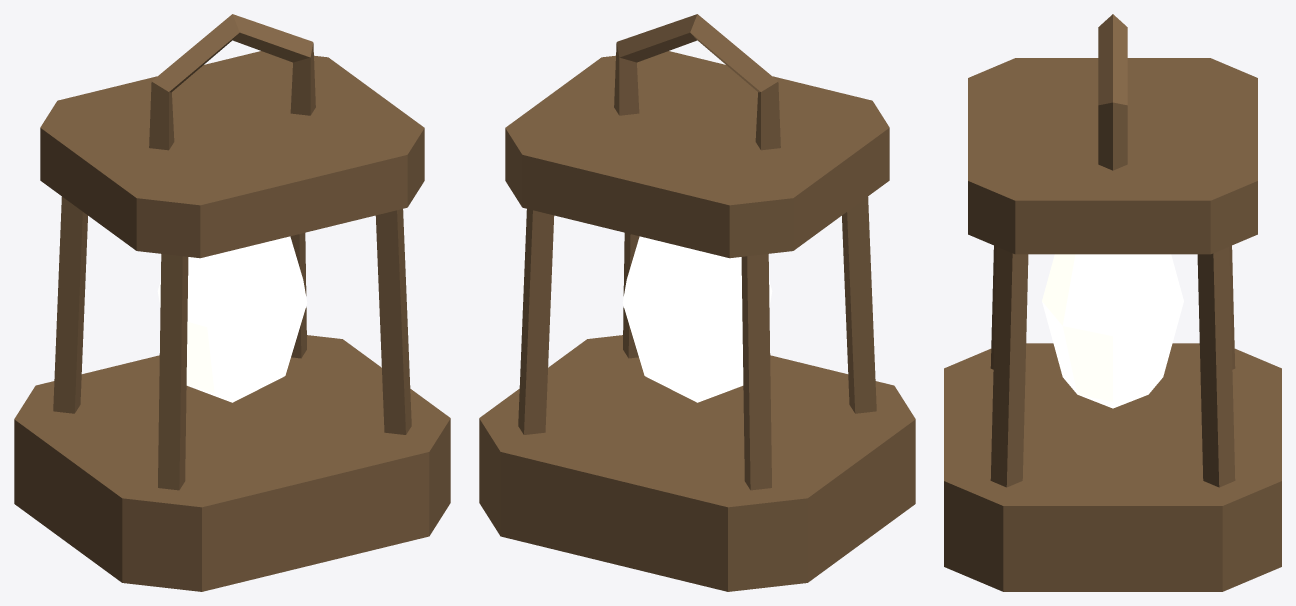
Rendered from lantern.glb.
3 views of the same model, side by side, from view 1: azimuth 30°, elevation 25°; view 2: azimuth 150°, elevation 25°; view 3: azimuth 270°, elevation 25° (orthographic).
Parts seen in each view (by area): view 1: body; view 2: body; view 3: body.
Part boxes in pixels (x1,y1,x2,y2): body: (14,14,450,591); body: (479,14,915,591); body: (944,14,1281,591).
Bounding box in the file's own units: 0.65 × 0.925 × 0.57.
